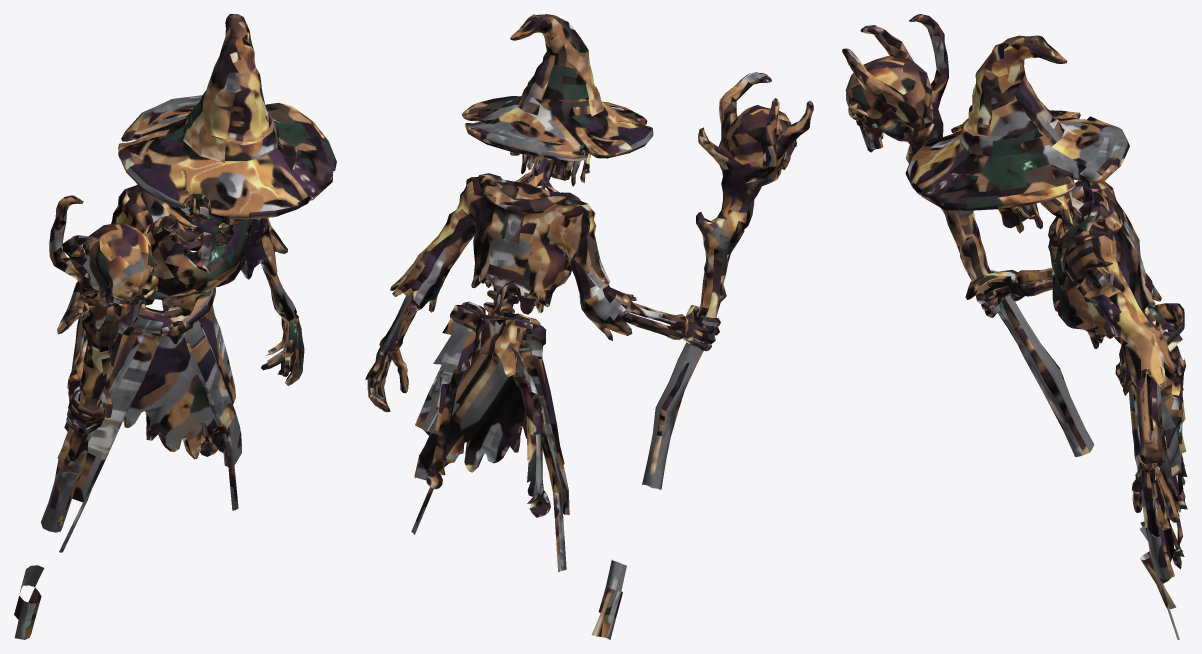
The model's file is H_Witch.fbx.
3 renders of one model, left to right at view 1: azimuth 30°, elevation 25°; view 2: azimuth 150°, elevation 25°; view 3: azimuth 270°, elevation 25°, orthographic. The views are drawn at different scales.
Visible parts, largest first — view 1: Witch; view 2: Witch; view 3: Witch.
Part boxes in pixels (box(x1,y1,x2,y2)): Witch: box(14, 14, 336, 639); Witch: box(365, 14, 813, 639); Witch: box(842, 14, 1187, 639).
Bounding box in the file's own units: 56.56 × 92.76 × 45.3.
